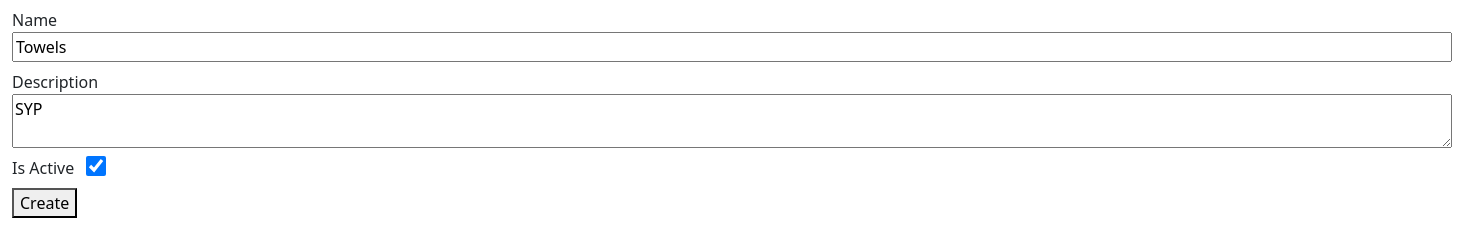
Test case: on submit › valid category › should reset form
Click the button "Create": point(45, 203) [12,188,77,218]
Wait 101 ms
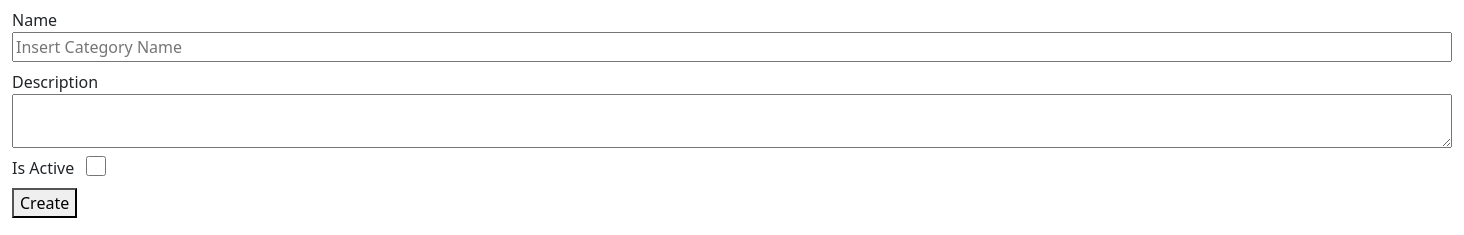
Expected: the field titled "name" is empty, [12,32,1452,62]
Expected: the text box titled "description" is empty, [12,94,1452,148]
Expected: the checkbox titled "isActive" is not checked, [86,156,106,176]
